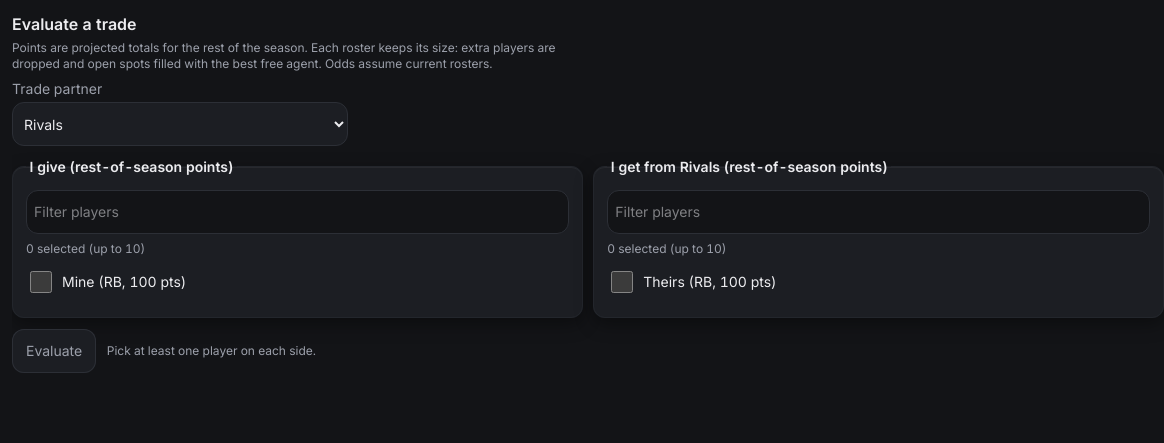
evaluator › shows the server's message as an amber notice
Click the checkbox labelled "Mine (RB, 100 pts)": {"x": 40, "y": 282} [30,271,52,293]
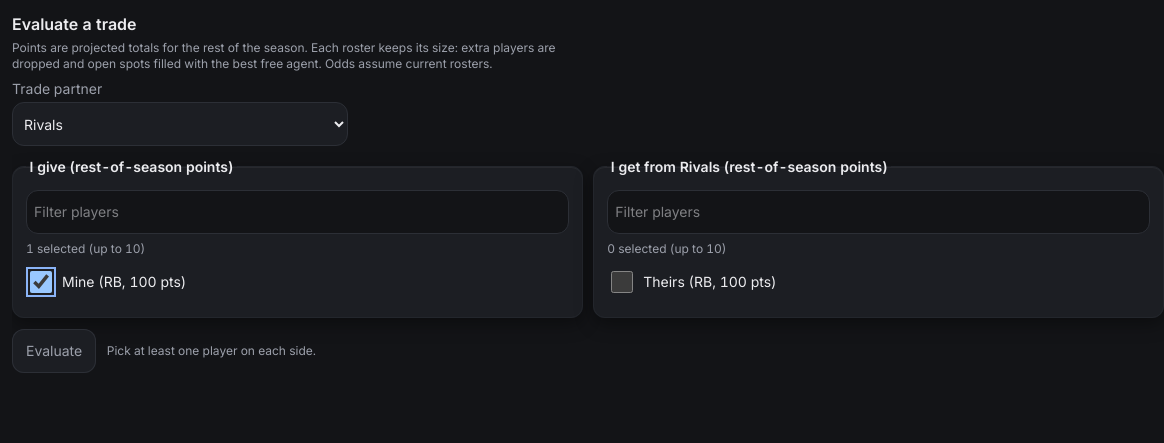
Click the checkbox labelled "Theirs (RB, 100 pts)": {"x": 622, "y": 282} [611,271,633,293]
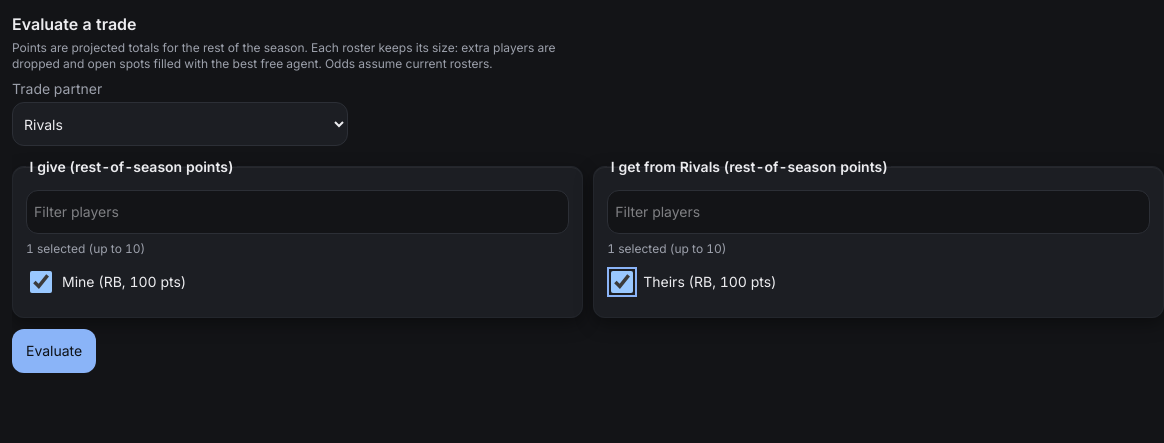
Click the button "Evaluate": {"x": 54, "y": 350} [12,328,96,372]
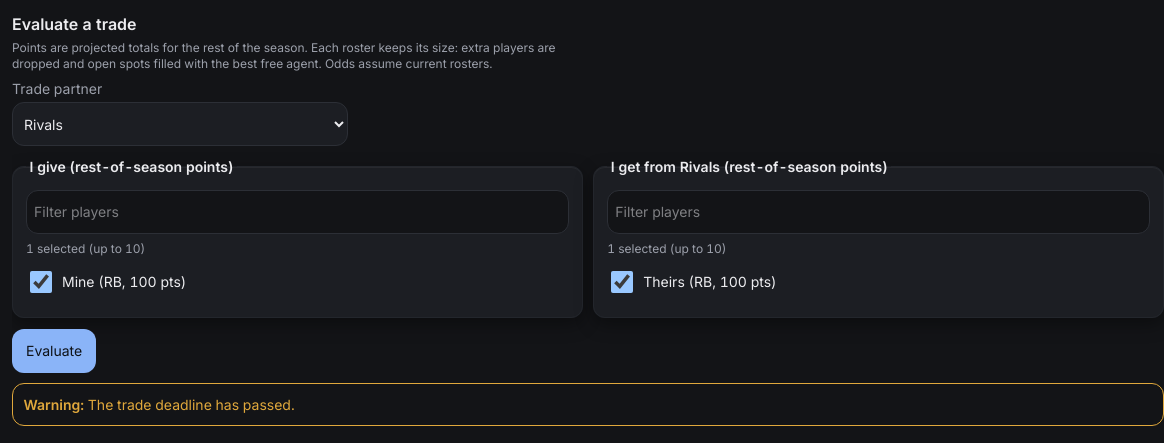
Check: the message shows "The trade deadline has passed.", box [88,396,295,412]
